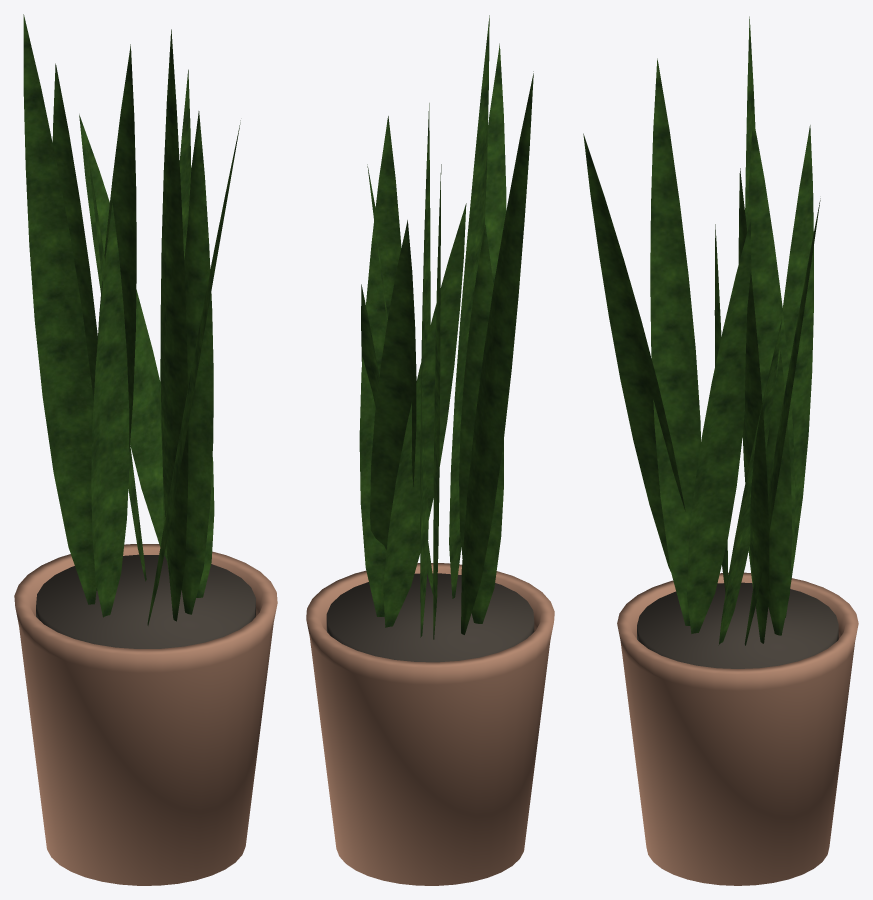
Rendered from corridor_plant.glb.
3 views of the same model, side by side, from view 1: azimuth 30°, elevation 25°; view 2: azimuth 150°, elevation 25°; view 3: azimuth 270°, elevation 25° (orthographic). The views are drawn at different scales.
Visible parts, largest first — view 1: corridor_plant; view 2: corridor_plant; view 3: corridor_plant.
Boxes of the visible parts, left/top/right/bottom form: corridor_plant: left=14, top=14, right=277, bottom=885; corridor_plant: left=306, top=15, right=554, bottom=885; corridor_plant: left=583, top=16, right=858, bottom=885.
Size of the model in its own units: 0.2758 by 0.9779 by 0.3123.
3 materials, 1 textured.
